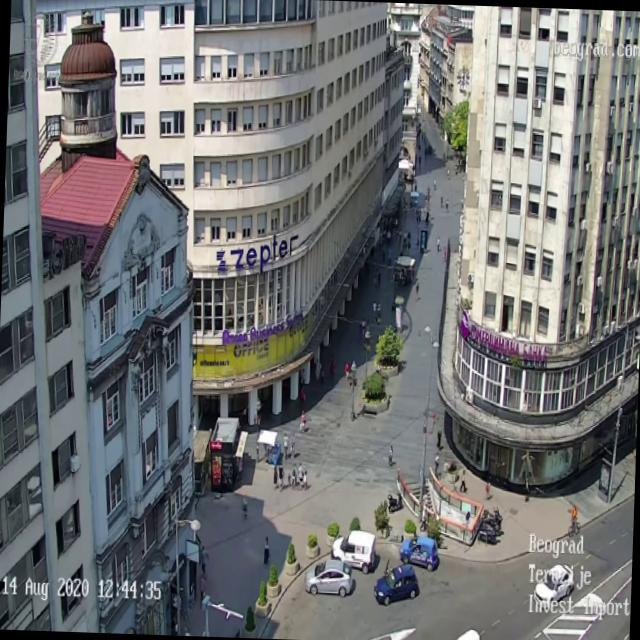car: (372, 562, 420, 606), (304, 556, 352, 598), (532, 562, 574, 607), (331, 530, 376, 568), (404, 532, 438, 566), (451, 627, 483, 640)
